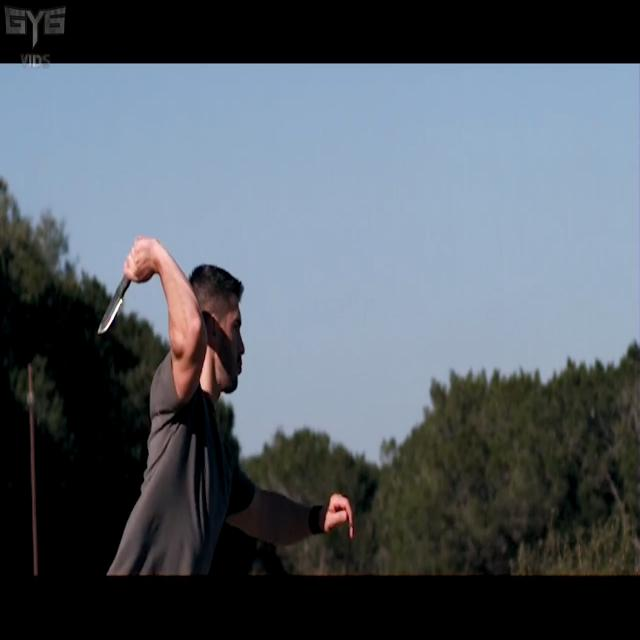knife: (97, 279, 131, 347)
